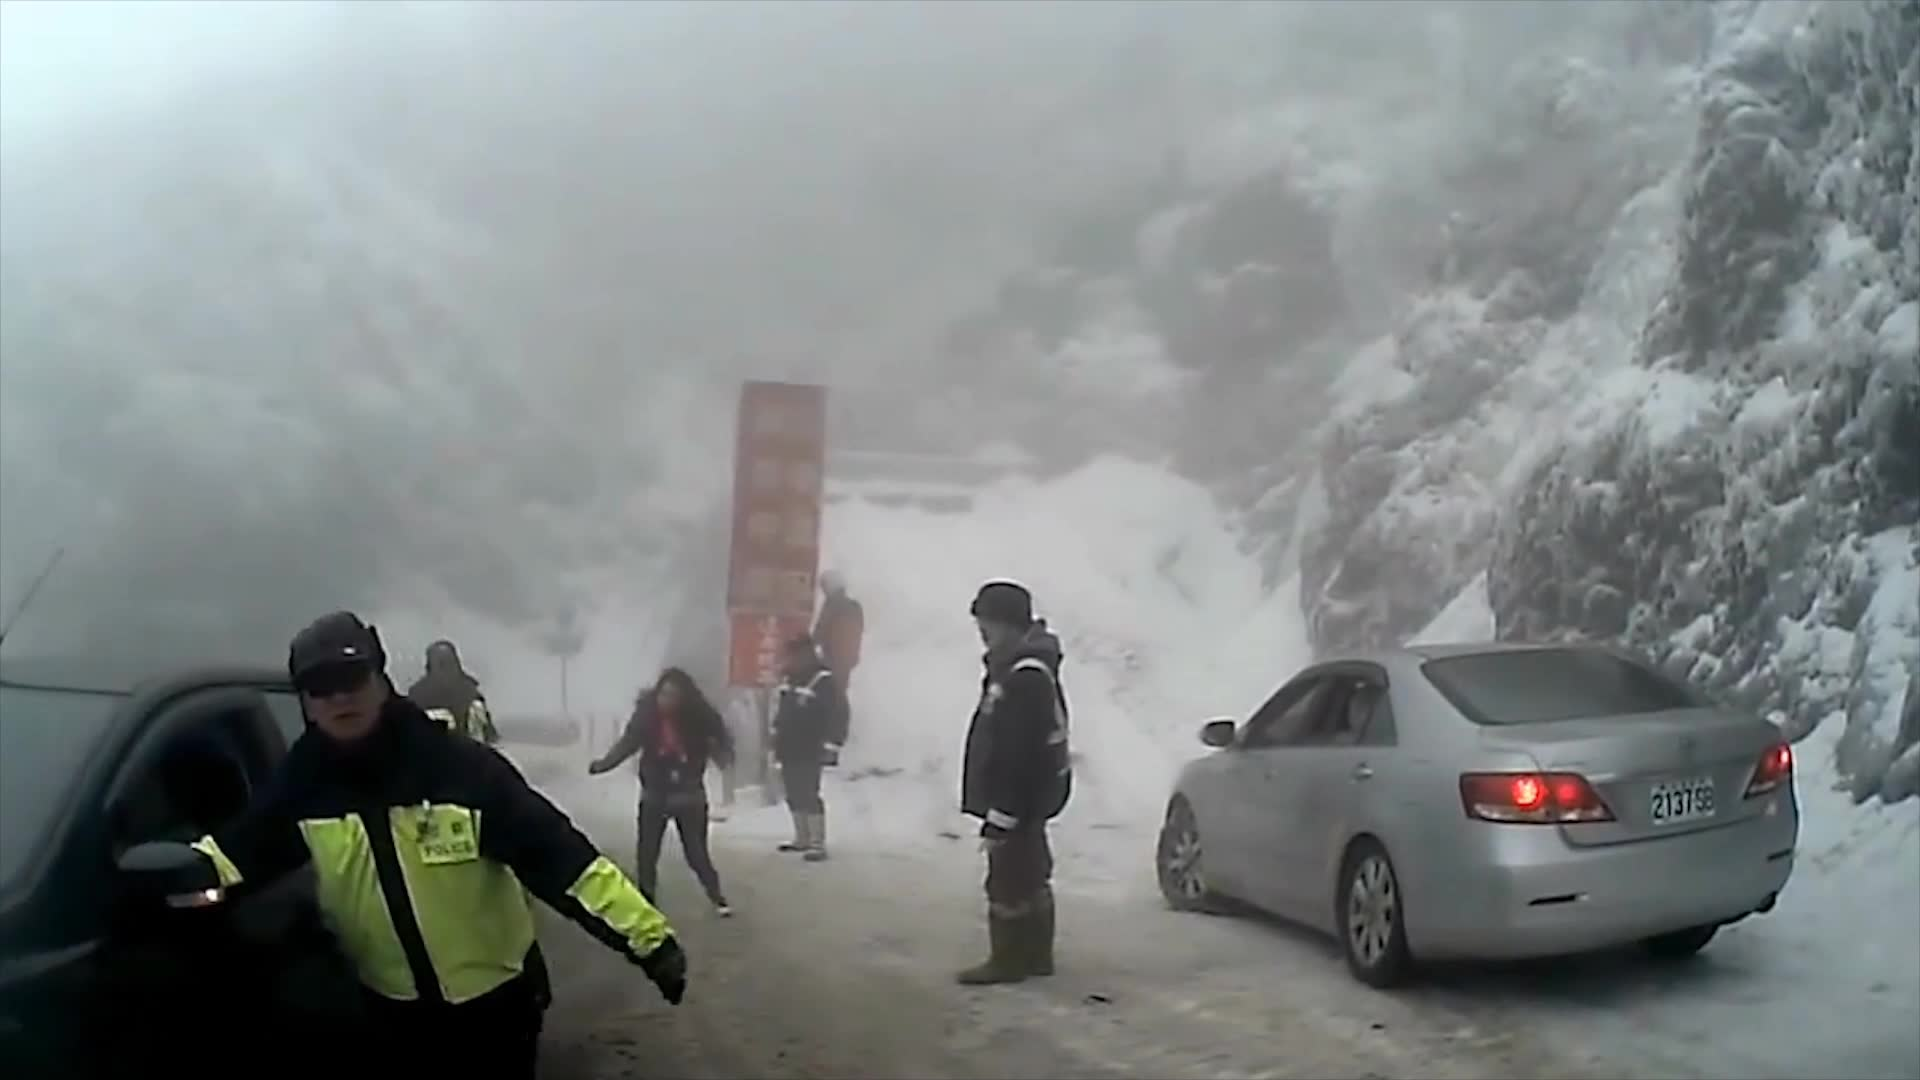pedestrian: (146, 605, 668, 1080), (946, 585, 1077, 985), (586, 671, 740, 931), (393, 643, 514, 928), (768, 640, 850, 864), (814, 566, 874, 757)
vehicle: (1156, 637, 1800, 987), (0, 656, 509, 1079)
